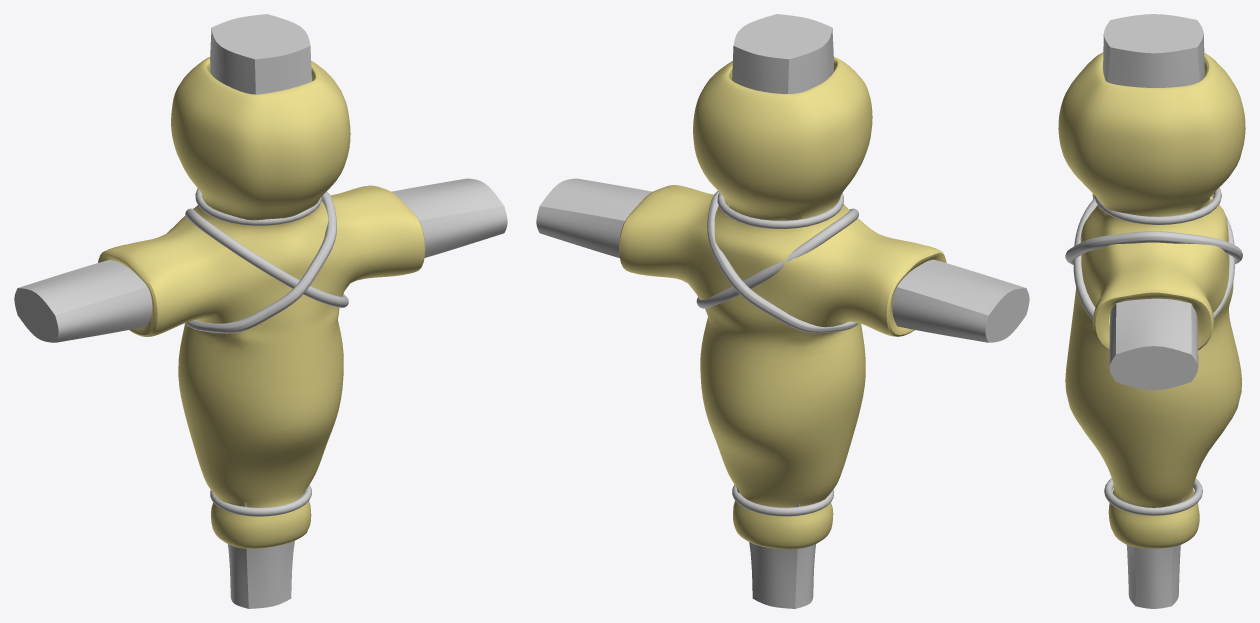
The model's file is Training Dummy.fbx.
3 renders of one model, left to right at view 1: azimuth 30°, elevation 25°; view 2: azimuth 150°, elevation 25°; view 3: azimuth 270°, elevation 25°, orthographic.
Visible parts, largest first — view 1: Cube.001, BezierCircle.002, BezierCircle.001, BezierCircle, BezierCircle.003; view 2: Cube.001, BezierCircle.002, BezierCircle.001, BezierCircle.003, BezierCircle; view 3: Cube.001, BezierCircle.002, BezierCircle.001, BezierCircle.003, BezierCircle.
Part boxes in pixels (x1,y1,x2,y2): Cube.001: (14, 14, 507, 608); BezierCircle.002: (185, 191, 336, 333); BezierCircle.001: (185, 208, 348, 307); BezierCircle: (210, 485, 311, 516); BezierCircle.003: (195, 188, 321, 225); Cube.001: (536, 14, 1029, 608); BezierCircle.002: (707, 191, 858, 333); BezierCircle.001: (696, 208, 858, 308); BezierCircle.003: (717, 192, 843, 228); BezierCircle: (732, 485, 833, 516); Cube.001: (1058, 14, 1245, 608); BezierCircle.002: (1065, 231, 1242, 264); BezierCircle.001: (1073, 196, 1234, 319); BezierCircle.003: (1094, 187, 1221, 224); BezierCircle: (1104, 478, 1202, 515).
Bounding box in the file's own units: 491 × 586 × 177.
